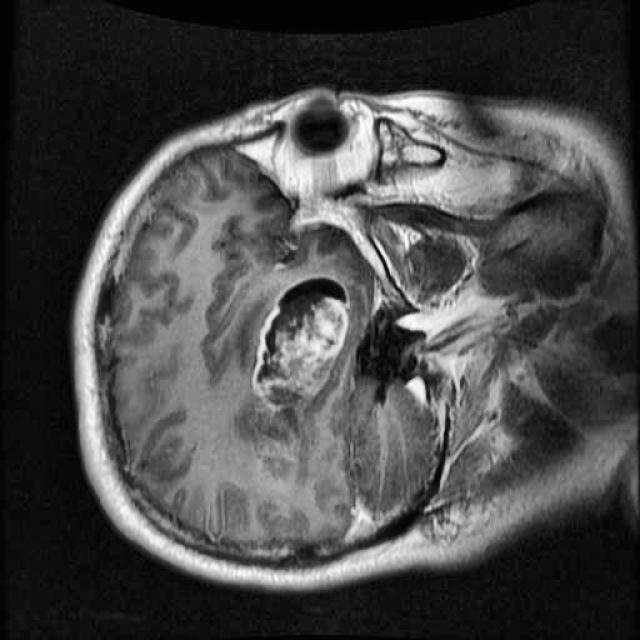Tumor: (242, 258, 368, 430)
